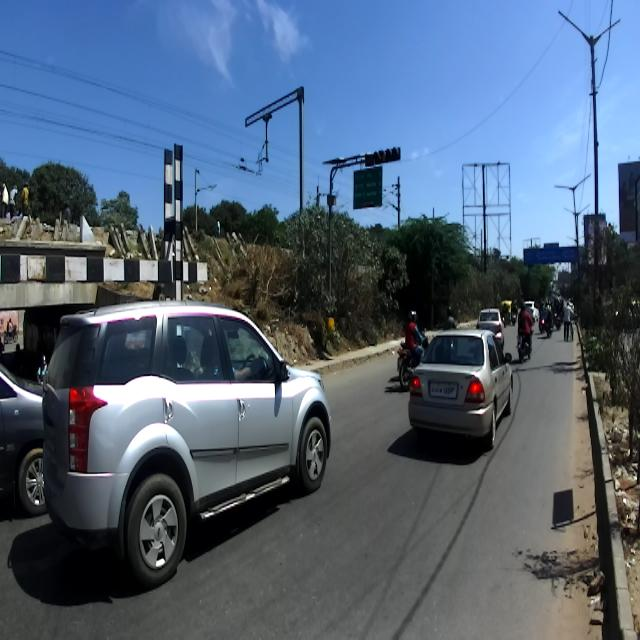car ahead at: (38, 297, 332, 594), (406, 321, 520, 460)
